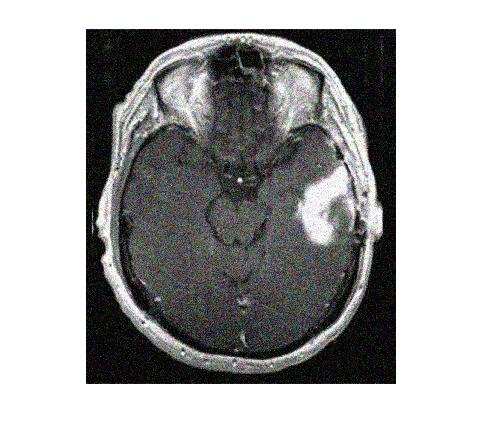Brain_Cancer: (296, 163, 357, 247)
